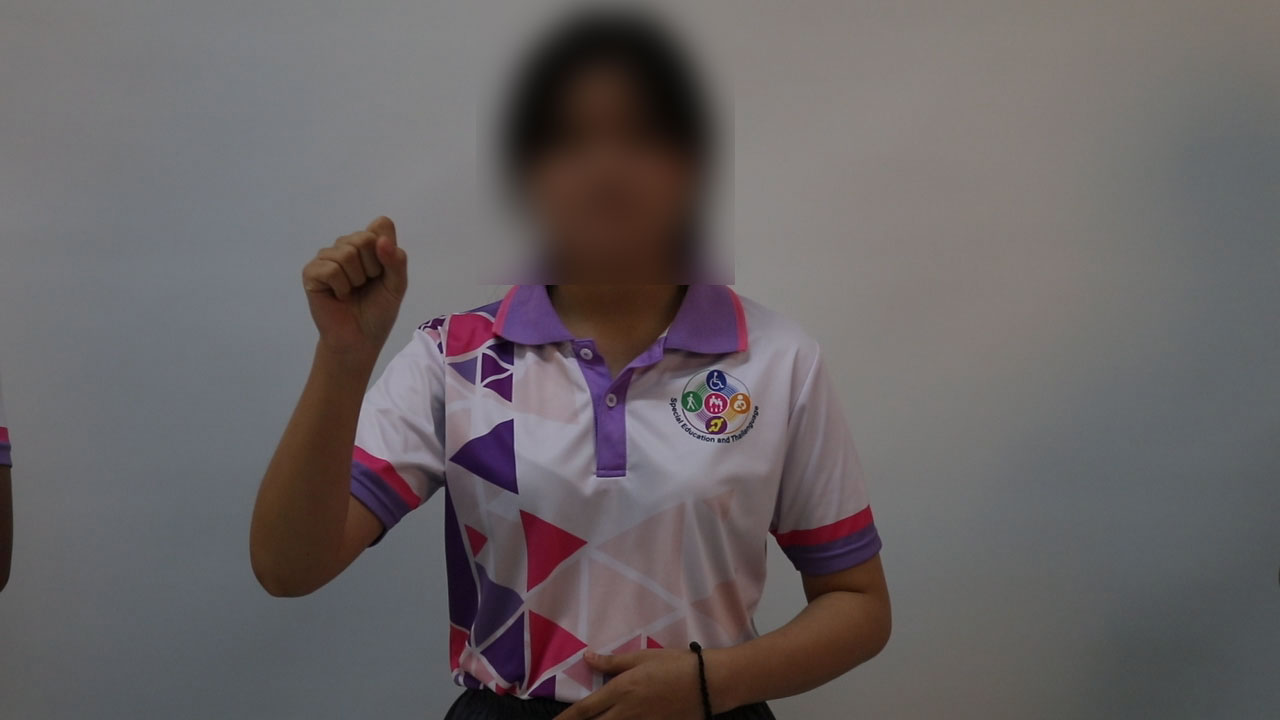sor: (290, 208, 425, 366)
